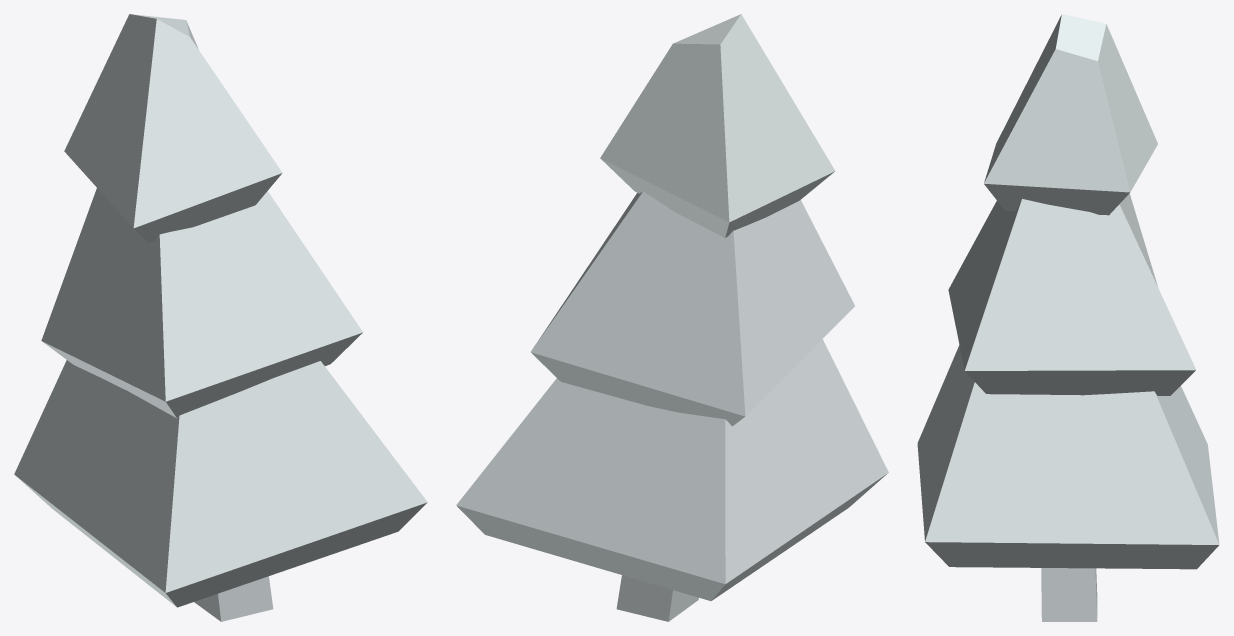
Rendered from Tree.001.fbx.
The picture shows the model from 3 angles, left to right: view 1: azimuth 30°, elevation 25°; view 2: azimuth 150°, elevation 25°; view 3: azimuth 270°, elevation 25°; orthographic projection. The views are drawn at different scales.
Parts seen in each view (by area): view 1: Tree.001; view 2: Tree.001; view 3: Tree.001.
Part boxes in pixels (left/top/right/bottom): Tree.001: left=14, top=14, right=427, bottom=621; Tree.001: left=456, top=14, right=888, bottom=621; Tree.001: left=917, top=14, right=1219, bottom=621.
Size of the model in its own units: 0.7824 by 1.69 by 0.823.
